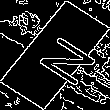N_NW: (19, 24, 91, 86)
